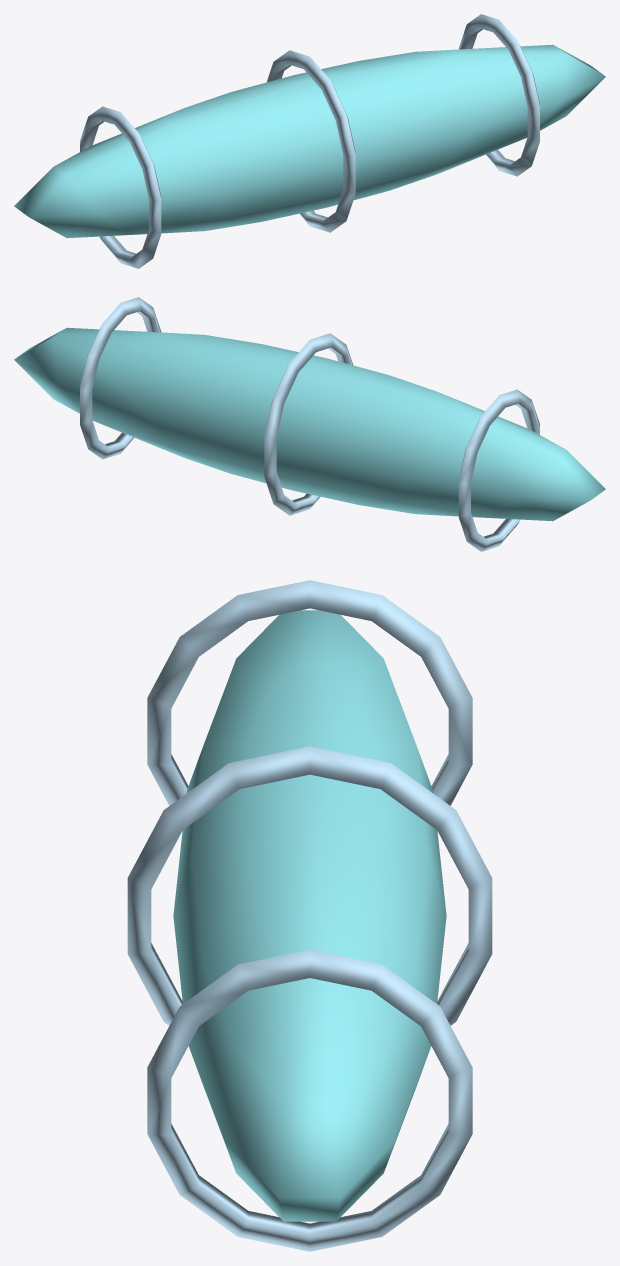
The model's file is OrbitalLaser.fbx.
3 renders of one model, top to bottom at view 1: azimuth 30°, elevation 25°; view 2: azimuth 150°, elevation 25°; view 3: azimuth 270°, elevation 25°, orthographic. The views are drawn at different scales.
Parts seen in each view (by area): view 1: orbital_beam; view 2: orbital_beam; view 3: orbital_beam.
Boxes of the visible parts, x1,y1,x2,y2 form: orbital_beam: (14, 14, 605, 268); orbital_beam: (14, 297, 605, 551); orbital_beam: (127, 580, 492, 1251).
Size of the model in its own units: 1.27 by 0.3562 by 0.3473.
